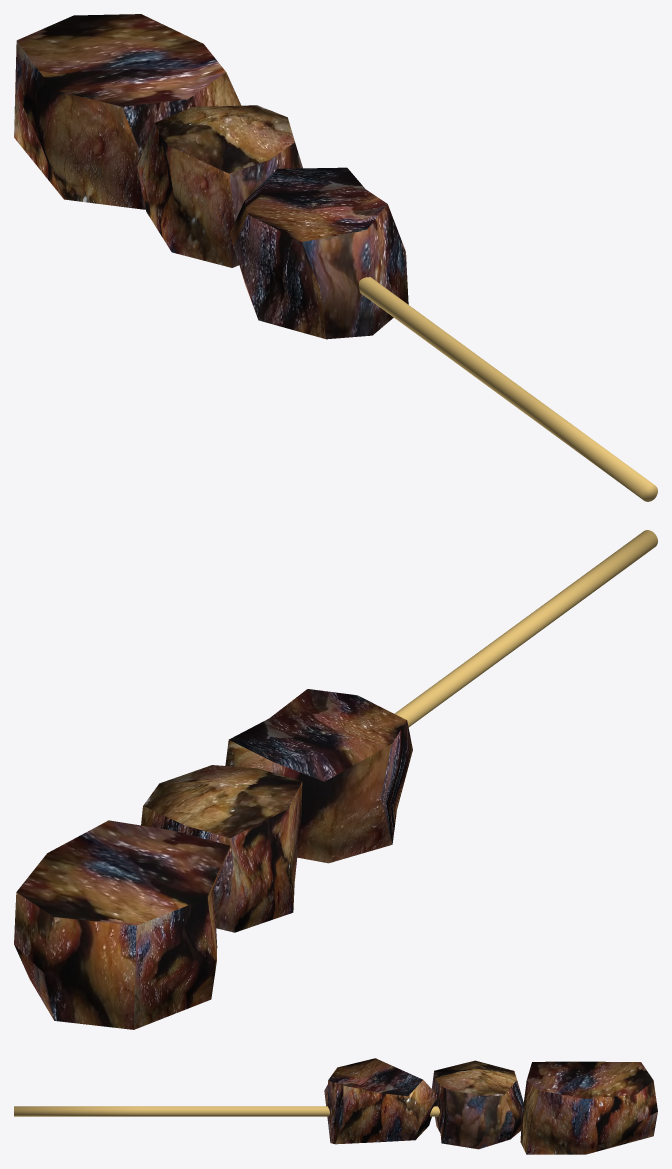
File: beefsatay3.fbx
The picture shows the model from 3 angles, top to bottom: view 1: azimuth 30°, elevation 25°; view 2: azimuth 150°, elevation 25°; view 3: azimuth 270°, elevation 25°; orthographic projection. The views are drawn at different scales.
Visible parts, largest first — view 1: 3beefsjoined; view 2: 3beefsjoined; view 3: 3beefsjoined.
Boxes of the visible parts, x1,y1,x2,y2 form: 3beefsjoined: (14,14,657,501); 3beefsjoined: (14,530,657,1029); 3beefsjoined: (14,1058,657,1154).
Size of the model in its own units: 151 by 102 by 848.
2 materials, 1 textured.
